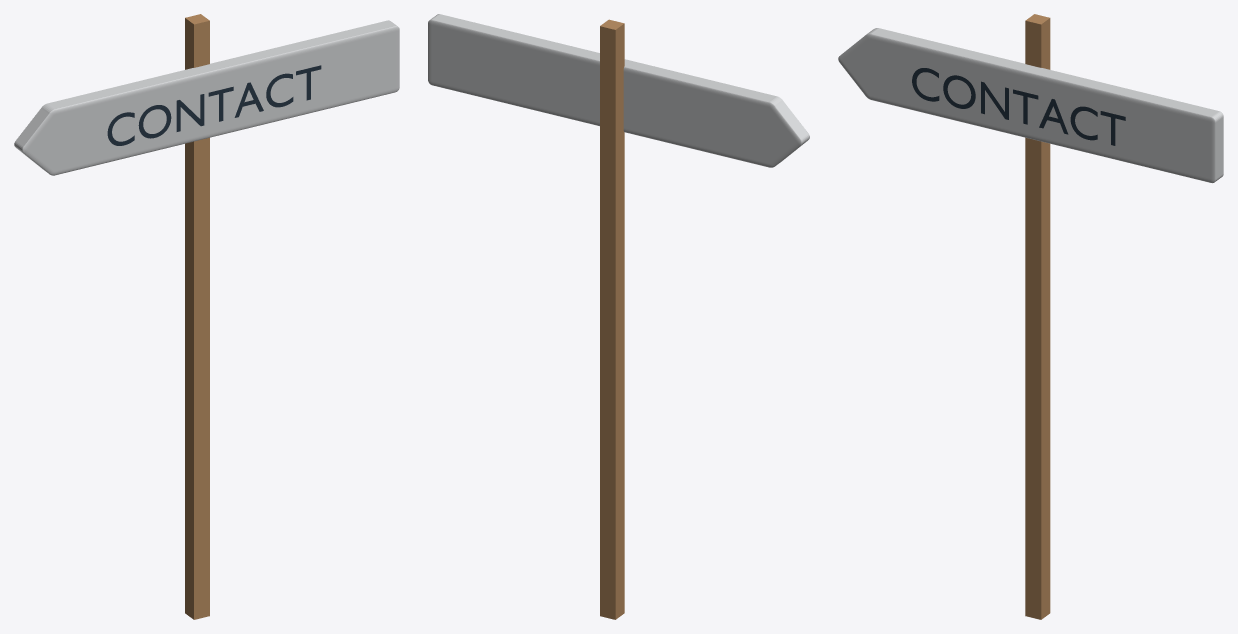
Rendered from signContact.glb.
3 renders of one model, left to right at view 1: azimuth 30°, elevation 25°; view 2: azimuth 150°, elevation 25°; view 3: azimuth 330°, elevation 25°, orthographic.
Parts seen in each view (by area): view 1: Cube.001, Cube, Text.001; view 2: Cube.001, Cube; view 3: Cube.001, Cube, Text.001.
Part boxes in pixels (<box>): Cube.001: <box>14,20,399,175</box>; Cube: <box>185,14,209,619</box>; Text.001: <box>107,65,321,145</box>; Cube.001: <box>428,14,809,167</box>; Cube: <box>600,19,624,619</box>; Cube.001: <box>838,28,1223,183</box>; Cube: <box>1025,14,1050,619</box>; Text.001: <box>912,68,1125,145</box>.
Bounding box in the file's own units: 11.94 × 18 × 1.23.
